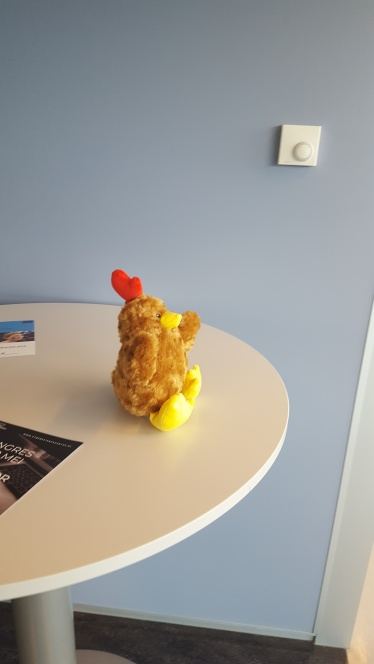chicken_left: (109, 267, 196, 431)
